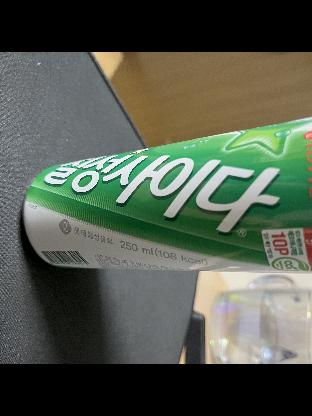Can: (19, 116, 312, 273)
